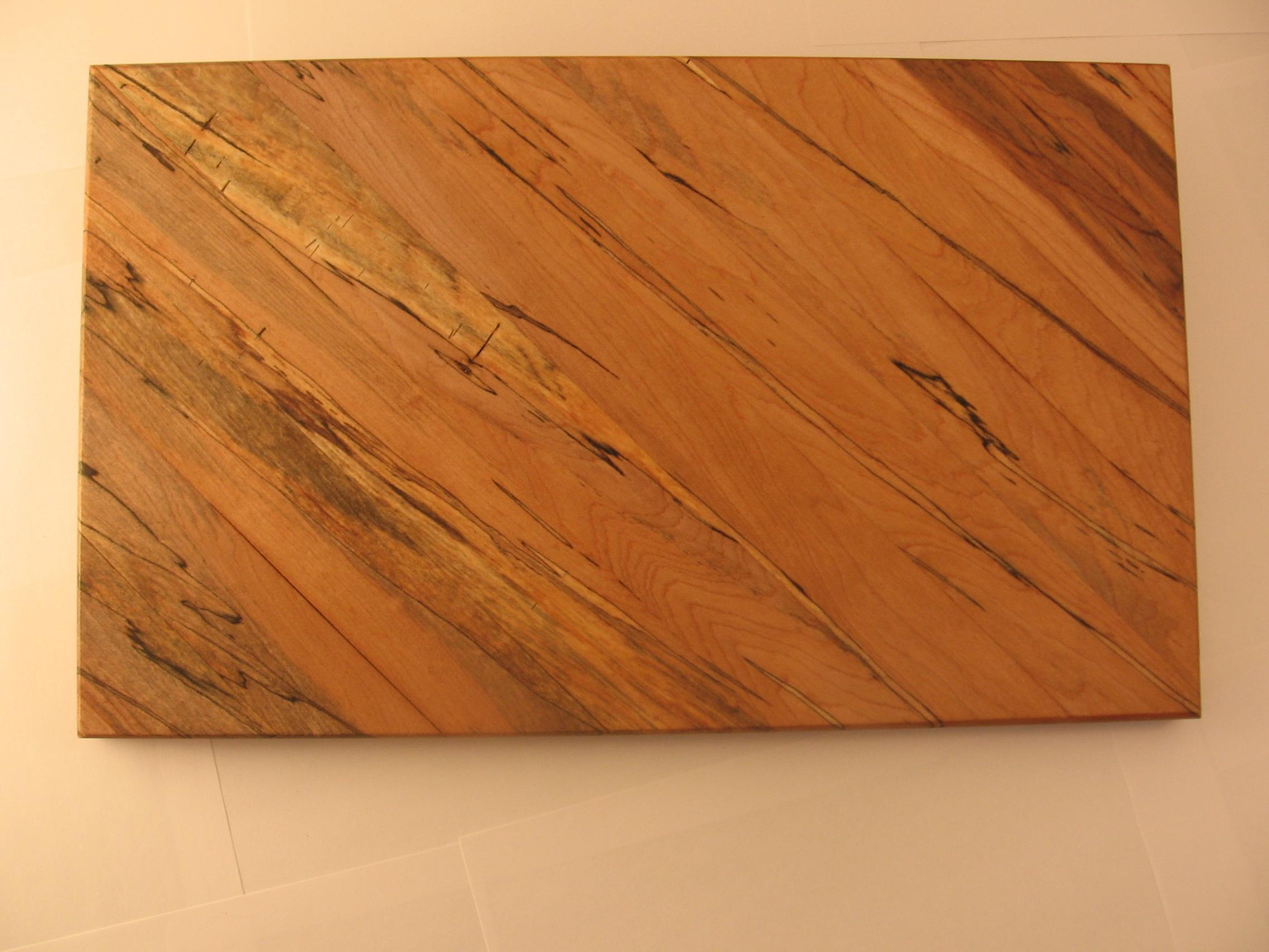gloved_hand: (65, 37, 1227, 745)
